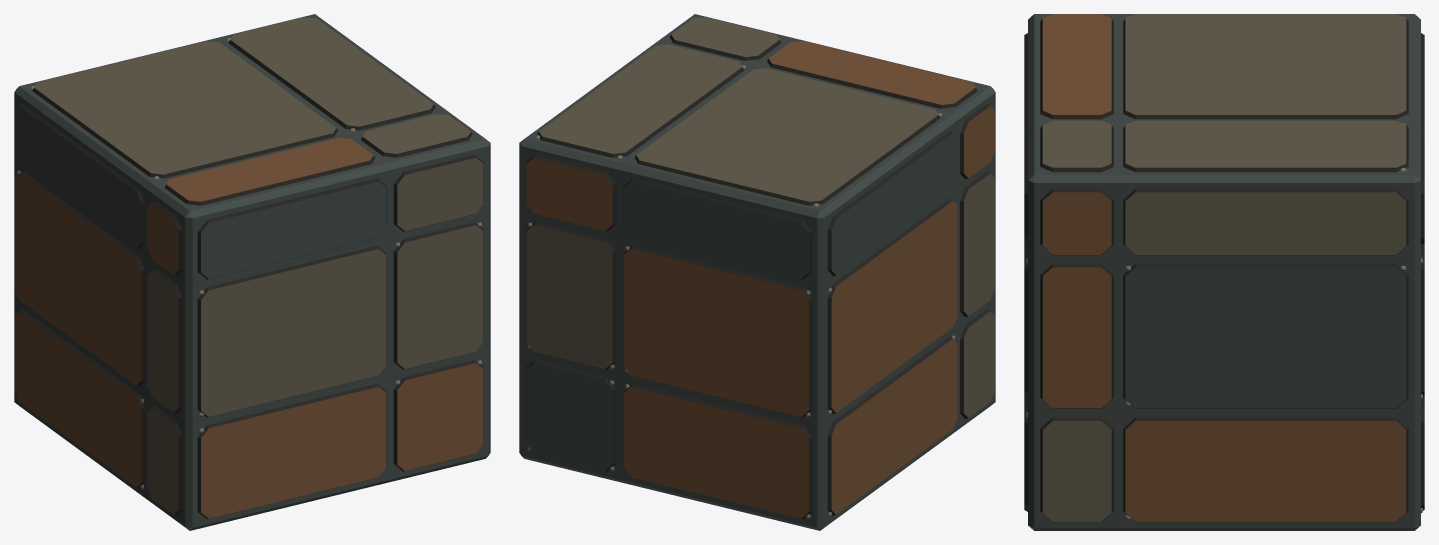
The picture shows the model from 3 angles, left to right: view 1: azimuth 30°, elevation 25°; view 2: azimuth 150°, elevation 25°; view 3: azimuth 270°, elevation 25°; orthographic projection. The views are drawn at different scales.
Visible parts, largest first — view 1: R4B_Cube; view 2: R4B_Cube; view 3: R4B_Cube.
Boxes of the visible parts, left/top/right/bottom form: R4B_Cube: left=14, top=14, right=490, bottom=530; R4B_Cube: left=519, top=14, right=995, bottom=530; R4B_Cube: left=1024, top=14, right=1424, bottom=530.
Bounding box in the file's own units: 0.52 × 0.52 × 0.52.
